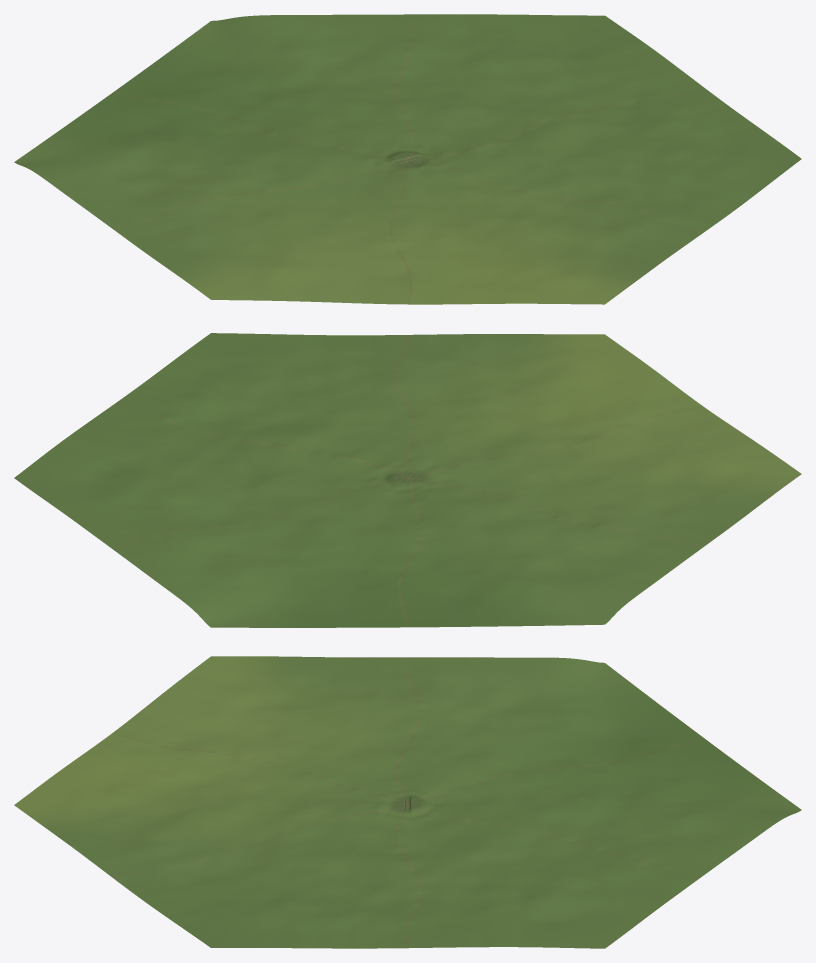
The model's file is hv_01_terrain.glb.
The picture shows the model from 3 angles, top to bottom: view 1: azimuth 30°, elevation 25°; view 2: azimuth 150°, elevation 25°; view 3: azimuth 270°, elevation 25°; orthographic projection.
Visible parts, largest first — view 1: HV_01_Terreno; view 2: HV_01_Terreno; view 3: HV_01_Terreno.
Boxes of the visible parts, x1=… form: HV_01_Terreno: x1=14, y1=14, x2=801, y2=304; HV_01_Terreno: x1=14, y1=333, x2=801, y2=627; HV_01_Terreno: x1=14, y1=656, x2=801, y2=948.
Size of the model in its own units: 4330 by 76.89 by 5000.
